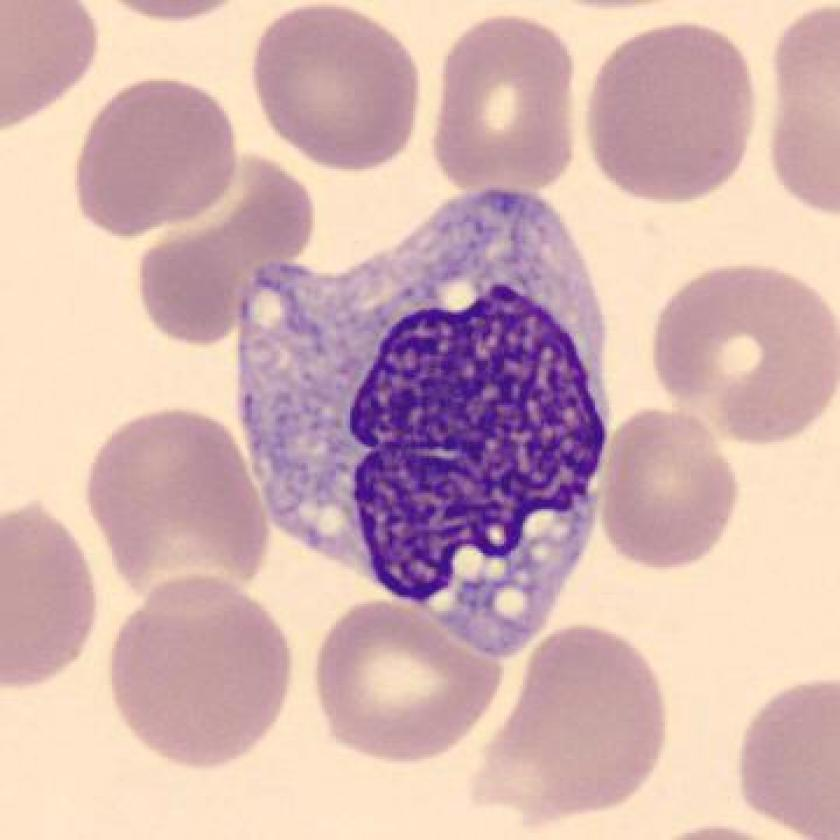monocyte: (216, 170, 636, 663)
